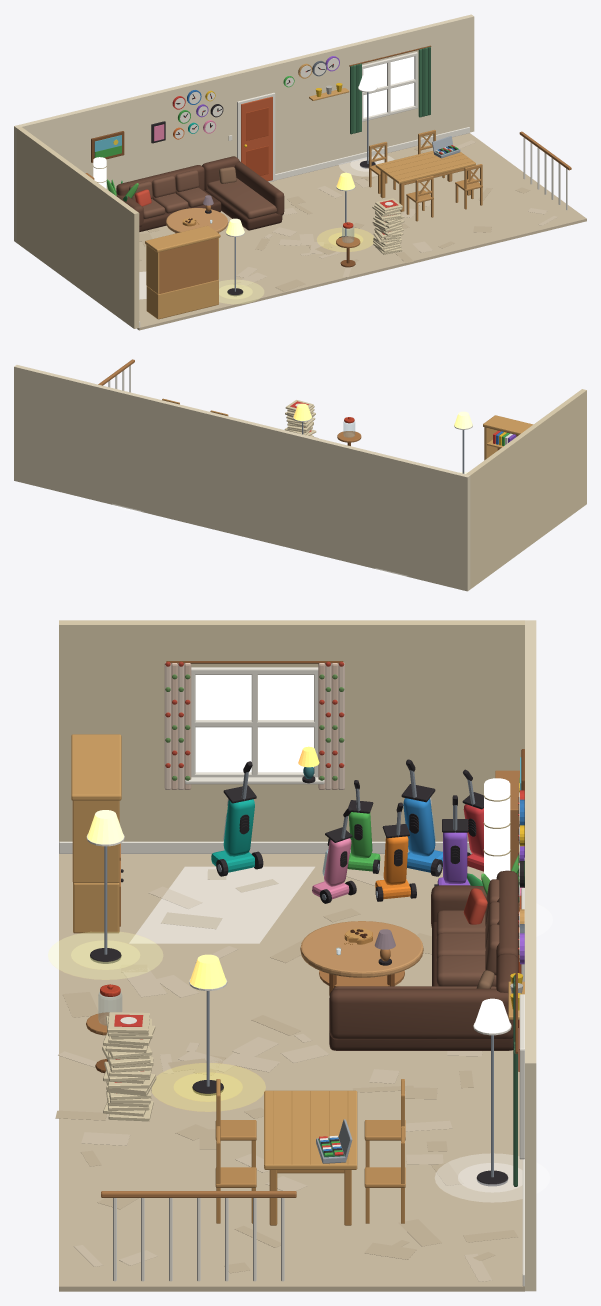
The model's file is apartment.glb.
The picture shows the model from 3 angles, top to bottom: view 1: azimuth 30°, elevation 25°; view 2: azimuth 150°, elevation 25°; view 3: azimuth 270°, elevation 25°; orthographic projection. The views are drawn at different scales.
Visible parts, largest first — view 1: room, couch, tiny_tv, dining_table, lamp_2, lamp_4, coffee_table, lamp_3, chair_3, chair_4, chair_1, chip_case; view 2: room, tiny_tv, lamp_2; view 3: room, couch, tiny_tv, dining_table, lamp_2, coffee_table, lamp_4, lamp_3, lamp_1, vacuum_6, vacuum_2, vacuum_5 (+11 smaller).
Part boxes in pixels (x1,y1,x2,y2): room: (14, 14, 586, 330); couch: (116, 156, 284, 231); tiny_tv: (145, 225, 220, 319); dining_table: (375, 151, 475, 211); lamp_2: (219, 218, 263, 303); lamp_4: (317, 172, 373, 251); coffee_table: (166, 208, 228, 233); lamp_3: (339, 74, 393, 176); chair_3: (406, 176, 433, 221); chair_4: (455, 164, 482, 209); chair_1: (368, 142, 395, 193); chip_case: (432, 136, 460, 158); room: (14, 359, 586, 591); tiny_tv: (483, 415, 533, 460); lamp_2: (454, 411, 472, 473); room: (55, 620, 536, 1291); couch: (329, 870, 518, 1050); tiny_tv: (71, 734, 123, 933); dining_table: (264, 1090, 357, 1225); lamp_2: (48, 810, 162, 979); coffee_table: (300, 921, 423, 995); lamp_4: (152, 954, 265, 1111); lamp_3: (435, 998, 549, 1202); lamp_1: (483, 778, 552, 936); vacuum_6: (211, 761, 263, 876); vacuum_2: (401, 759, 442, 876); vacuum_5: (375, 802, 416, 901).
Bounding box in the file's own units: 11.24 × 2.76 × 5.42.
